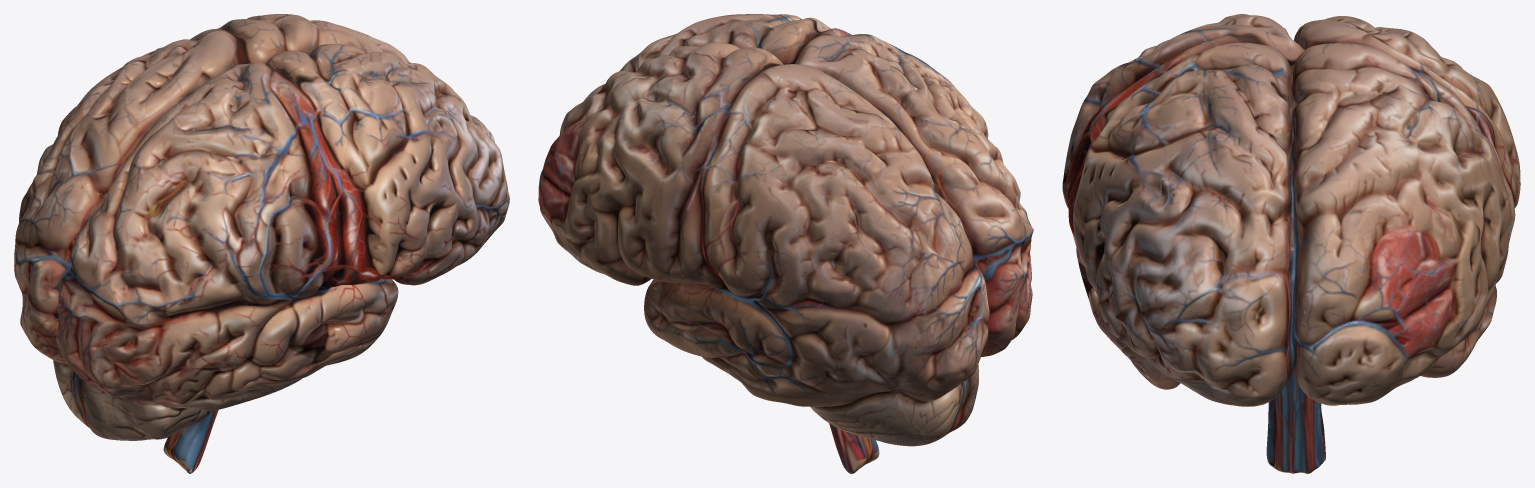
Rendered from brain.glb.
The picture shows the model from 3 angles, left to right: view 1: azimuth 30°, elevation 25°; view 2: azimuth 150°, elevation 25°; view 3: azimuth 270°, elevation 25°; orthographic projection. The views are drawn at different scales.
Parts seen in each view (by area): view 1: Object_4, Object_5, Object_11, Object_6, Object_10, Object_7, Object_9, Object_8, Object_12; view 2: Object_9, Object_10, Object_11, Object_6, Object_8, Object_7, Object_5, Object_4; view 3: Object_10, Object_11, Object_5, Object_4, Object_6, Object_9, Object_7, Object_8.
Part boxes in pixels (x1=…): Object_4: x1=147, y1=57, x2=509, y2=392; Object_5: x1=56, y1=29, x2=474, y2=409; Object_11: x1=56, y1=14, x2=411, y2=473; Object_6: x1=63, y1=51, x2=509, y2=293; Object_10: x1=15, y1=27, x2=407, y2=438; Object_7: x1=59, y1=115, x2=480, y2=408; Object_9: x1=14, y1=87, x2=200, y2=473; Object_8: x1=20, y1=201, x2=177, y2=458; Object_12: x1=161, y1=381, x2=297, y2=430; Object_9: x1=567, y1=137, x2=989, y2=473; Object_10: x1=538, y1=61, x2=987, y2=446; Object_11: x1=539, y1=42, x2=1032, y2=462; Object_6: x1=766, y1=18, x2=1027, y2=342; Object_8: x1=642, y1=264, x2=978, y2=473; Object_7: x1=561, y1=128, x2=1033, y2=333; Object_5: x1=619, y1=14, x2=1032, y2=327; Object_4: x1=766, y1=14, x2=987, y2=137; Object_10: x1=1292, y1=25, x2=1507, y2=405; Object_11: x1=1266, y1=16, x2=1446, y2=473; Object_5: x1=1077, y1=22, x2=1337, y2=385; Object_4: x1=1062, y1=15, x2=1249, y2=379; Object_6: x1=1138, y1=14, x2=1302, y2=405; Object_9: x1=1278, y1=48, x2=1520, y2=473; Object_7: x1=1140, y1=302, x2=1466, y2=406; Object_8: x1=1291, y1=359, x2=1457, y2=459.
Bounding box in the file's own units: 2 × 1.8 × 1.56.
Materials: 1 (1 with a texture image).
